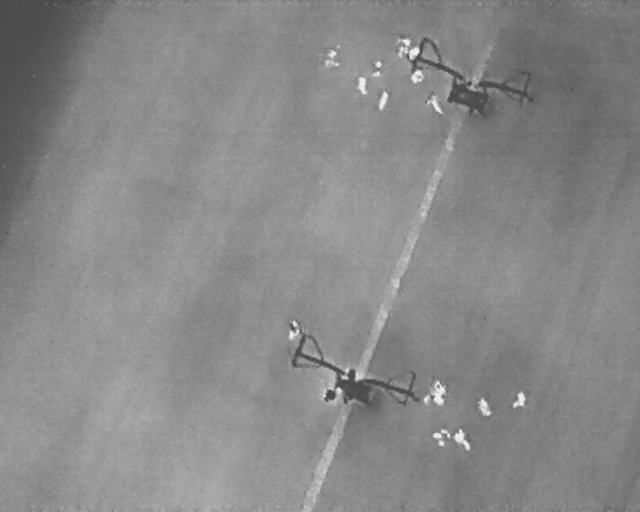Person: (449, 425, 475, 455), (423, 92, 449, 119), (473, 394, 495, 419), (510, 388, 530, 412), (322, 45, 340, 69), (394, 34, 411, 59), (375, 88, 391, 113), (432, 429, 450, 449), (286, 319, 301, 340), (431, 391, 448, 408), (432, 378, 447, 394), (410, 70, 425, 85), (356, 76, 367, 95), (372, 59, 382, 78), (406, 47, 420, 60), (421, 394, 432, 404)
